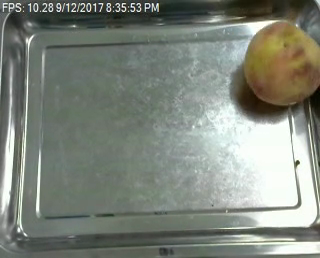Peach: (242, 20, 320, 106)
